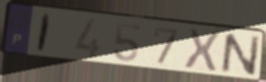4: (73, 18, 103, 61)
5: (112, 21, 143, 63)
7: (151, 26, 180, 67)
I: (34, 13, 54, 55)
N: (219, 32, 262, 78)
X: (183, 27, 222, 74)
